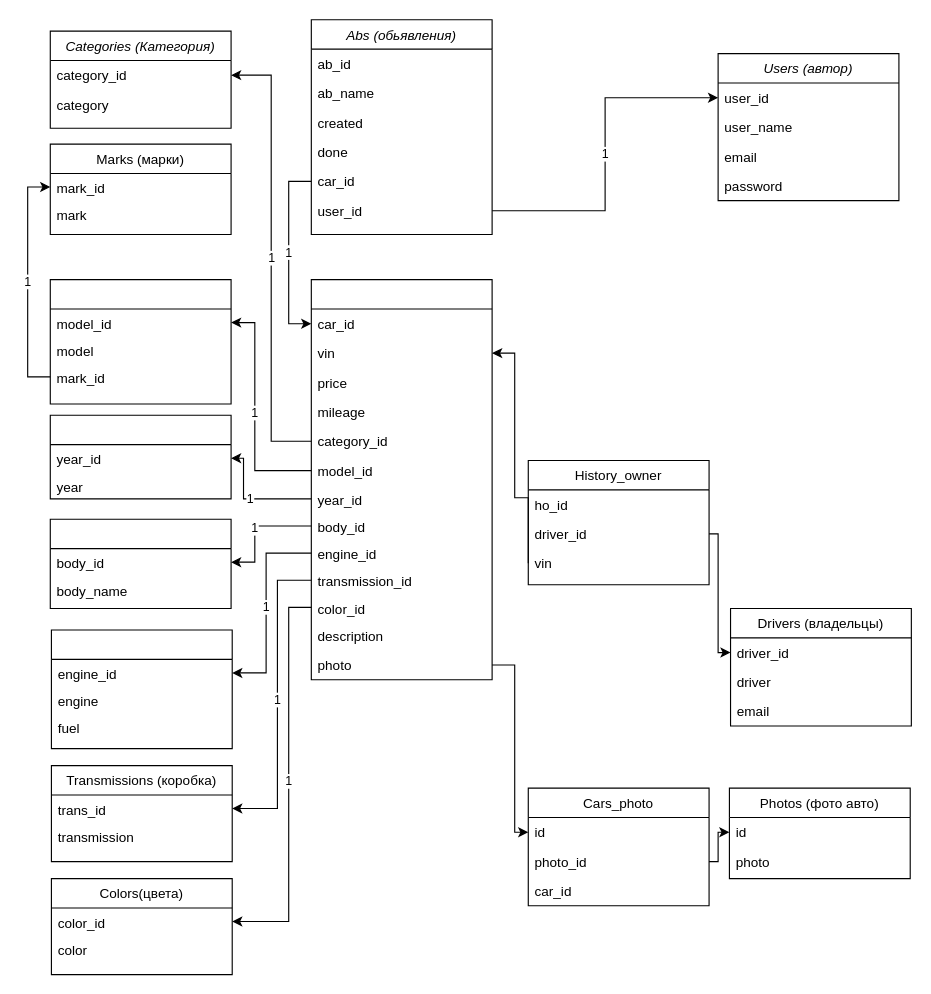
Some shapes in this 931 by 994 pixel diagram are drawn without their labels. The shapes that lost their labels are listed below. From the top down, each one's box as (x1, y1, x2, y2) in pixels, then its label:
(49, 279, 231, 404): Models (модели)
(49, 414, 231, 499): Years (годы выпуска)
(310, 279, 492, 680): Cars (автомобили)
(49, 518, 231, 609): Bodies (кузов)
(50, 629, 232, 749): Engines (двигатели)
